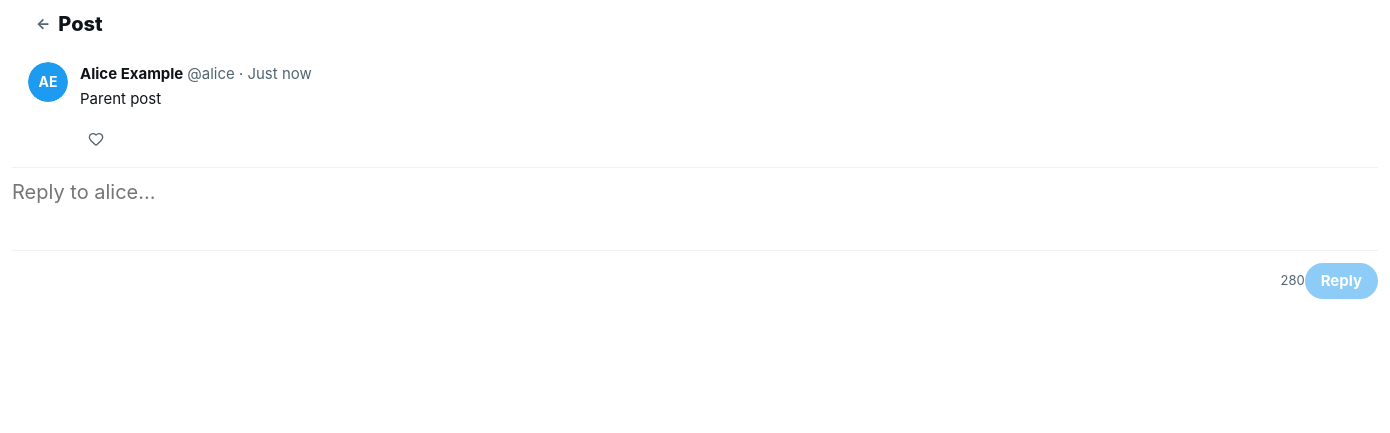
Test: Conversation UI states › adds reply to conversation after successful submit
Type "New reply" into the text box with test id "reply-composer-input".
click(695, 204); type("New reply")  # box [12, 168, 1378, 240]
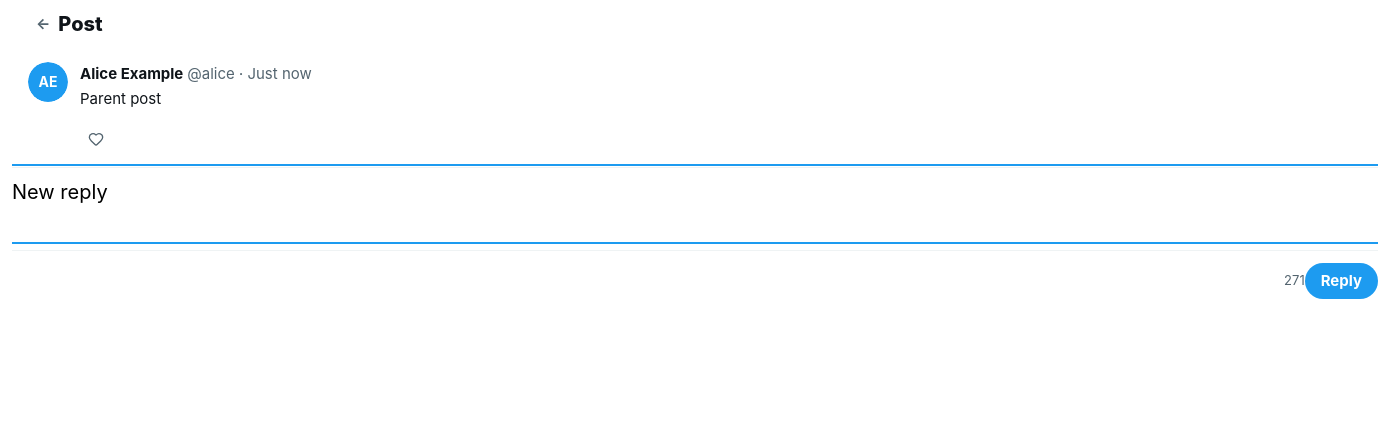
Click the button with test id "reply-submit-button".
click(1341, 280)  # box [1305, 262, 1378, 298]
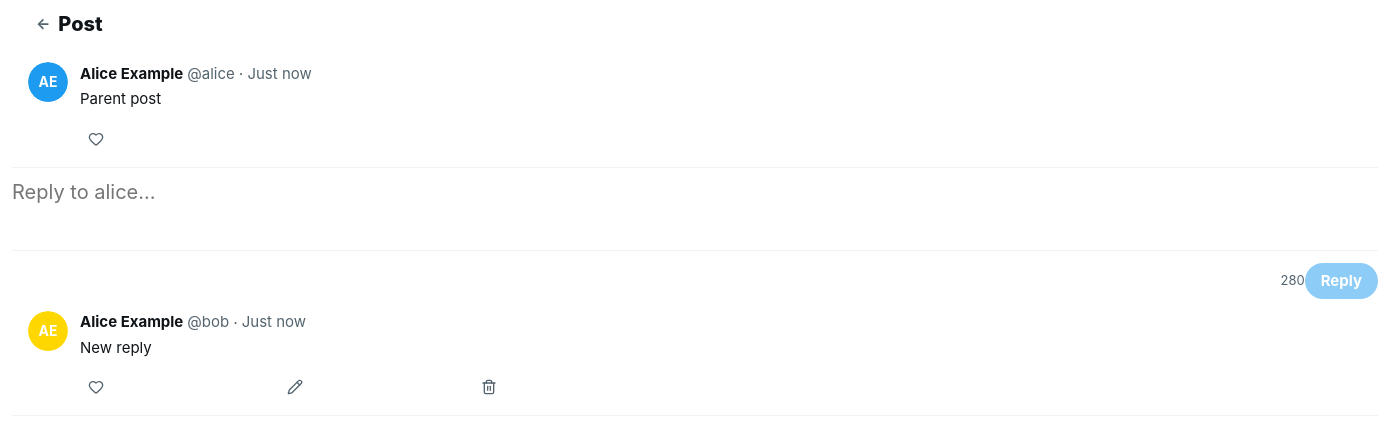
Expected: the text "New reply" is shown, [80, 338, 152, 356]
Expected: the text box with test id "reply-composer-input" is empty, [12, 168, 1378, 240]
